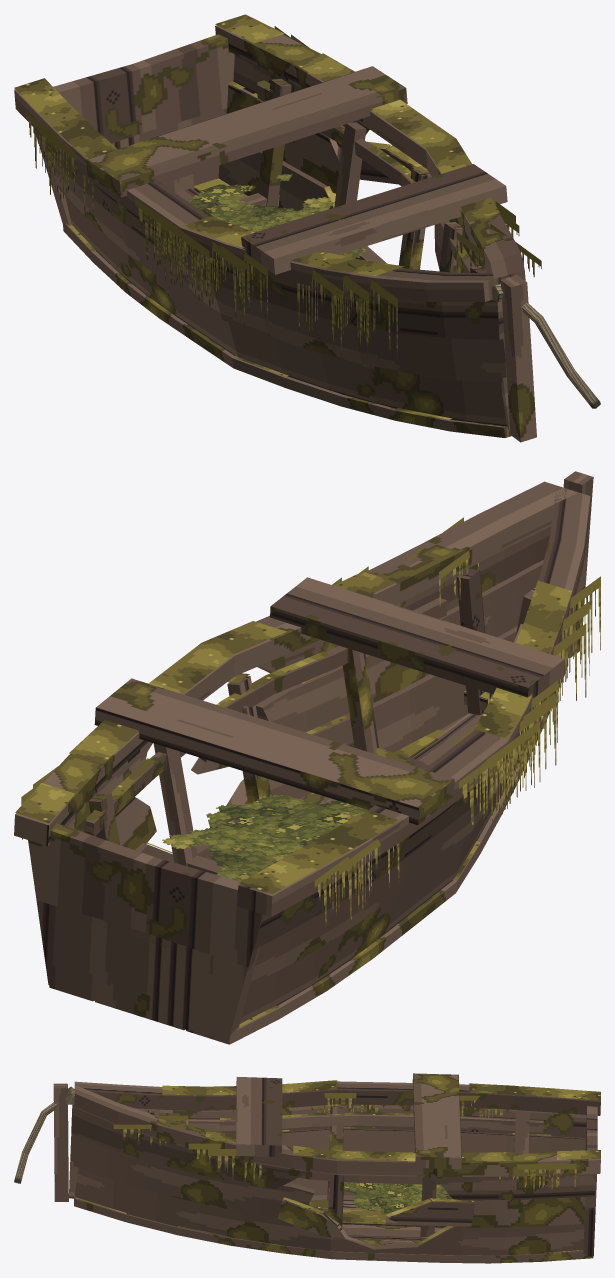
Rendered from SM_SW21_SunkenBoatNarrow.fbx.
The picture shows the model from 3 angles, top to bottom: view 1: azimuth 30°, elevation 25°; view 2: azimuth 150°, elevation 25°; view 3: azimuth 270°, elevation 25°; orthographic projection. The views are drawn at different scales.
Parts seen in each view (by area): view 1: SW21a_Planks, SW21a_Plants, SW21a_Moss, SW21a_Props; view 2: SW21a_Planks, SW21a_Plants, SW21a_Moss; view 3: SW21a_Planks, SW21a_Moss, SW21a_Plants, SW21a_Props.
Part boxes in pixels (x1,y1,x2,y2): SW21a_Planks: [14, 25, 536, 442]; SW21a_Plants: [26, 26, 541, 365]; SW21a_Moss: [14, 14, 499, 419]; SW21a_Props: [491, 284, 600, 408]; SW21a_Planks: [14, 471, 593, 1044]; SW21a_Plants: [21, 517, 600, 926]; SW21a_Moss: [15, 571, 571, 1028]; SW21a_Planks: [53, 1073, 600, 1263]; SW21a_Moss: [74, 1080, 600, 1253]; SW21a_Plants: [113, 1088, 576, 1214]; SW21a_Props: [14, 1086, 74, 1183].
Size of the model in its own units: 1.41 by 0.9464 by 3.33.
